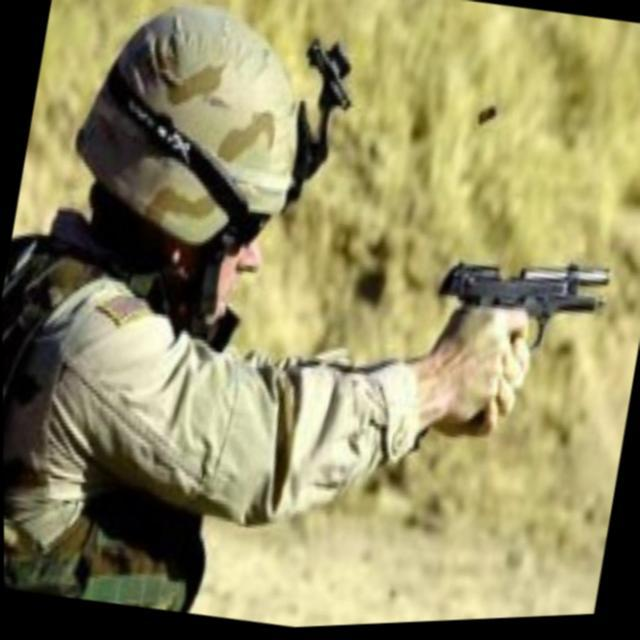weapon: (437, 236, 630, 382)
